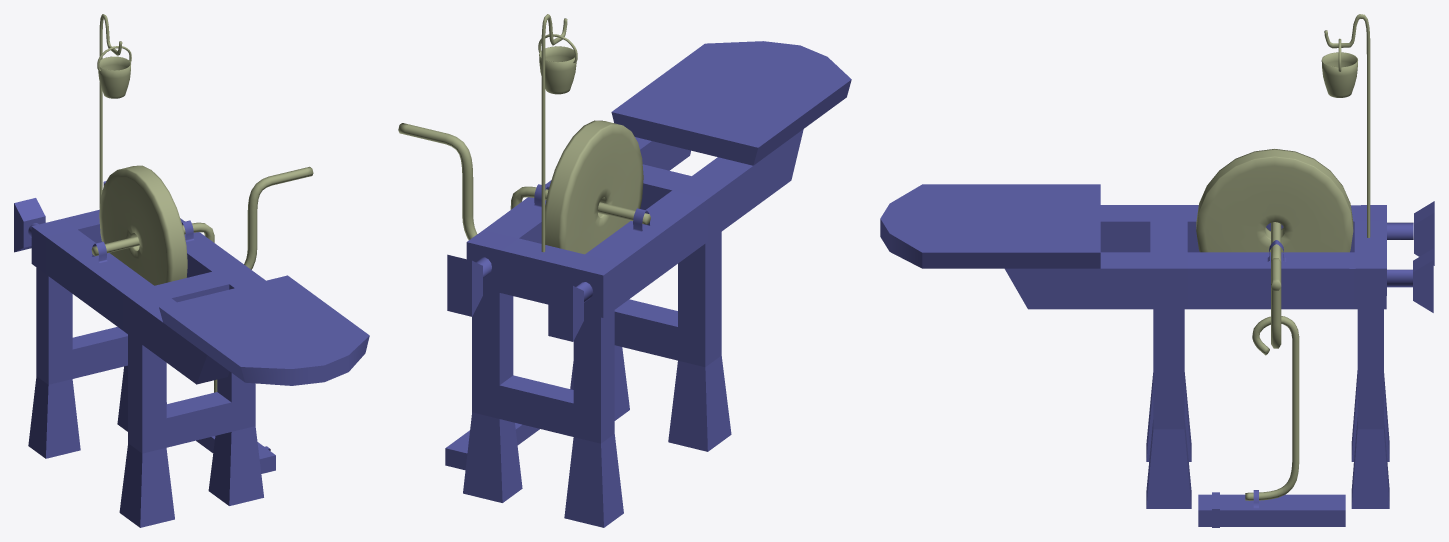
The model's file is uploads_files_1930956_GrindStone_FBX.fbx.
3 renders of one model, left to right at view 1: azimuth 30°, elevation 25°; view 2: azimuth 150°, elevation 25°; view 3: azimuth 270°, elevation 25°, orthographic. The views are drawn at different scales.
Visible parts, largest first — view 1: Cube.018; view 2: Cube.018; view 3: Cube.018.
Boxes of the visible parts, bbox=[...] form: Cube.018: bbox=[14, 14, 369, 527]; Cube.018: bbox=[398, 14, 851, 527]; Cube.018: bbox=[880, 14, 1434, 527].
Size of the model in its own units: 89.17 by 156 by 169.
